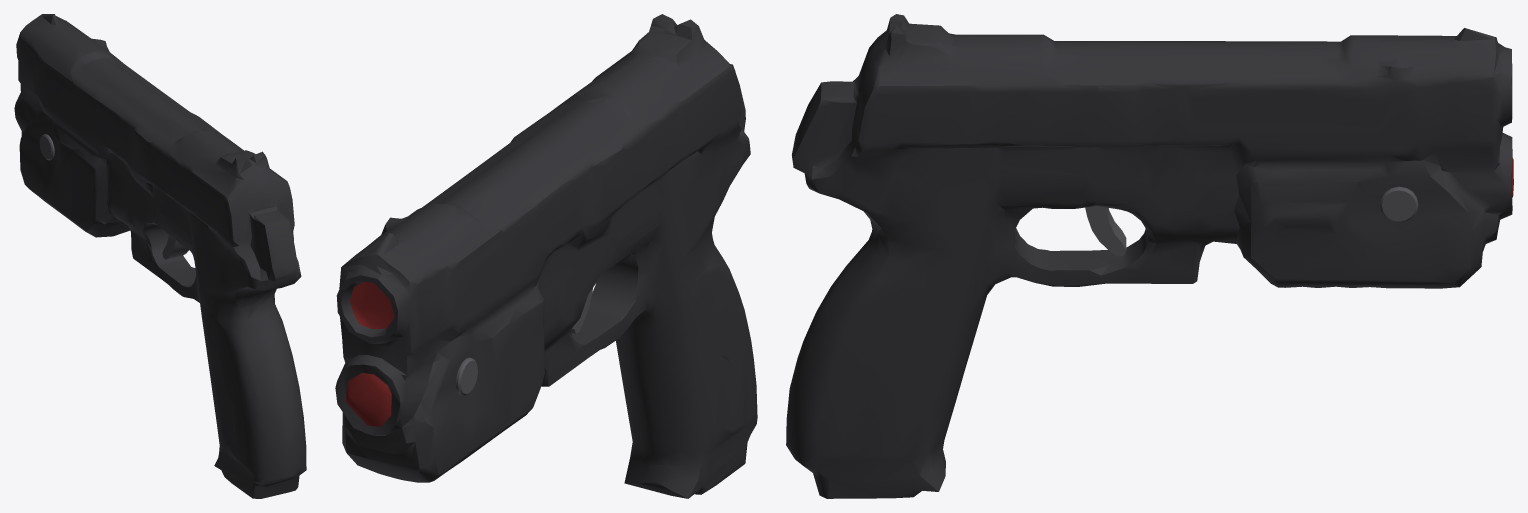
The model's file is lightgun.glb.
3 views of the same model, side by side, from view 1: azimuth 30°, elevation 25°; view 2: azimuth 150°, elevation 25°; view 3: azimuth 270°, elevation 25° (orthographic). The views are drawn at different scales.
Visible parts, largest first — view 1: body, trigger; view 2: body, button_left; view 3: body, trigger, button_right.
Part boxes in pixels (<box>): body: <box>14,14,306,498</box>; trigger: <box>162,235,188,259</box>; body: <box>335,14,757,498</box>; button_left: <box>455,357,477,395</box>; body: <box>786,14,1513,498</box>; trigger: <box>1085,206,1126,256</box>; button_right: <box>1380,186,1418,222</box>.
Size of the model in its own units: 0.0369 by 0.1693 by 0.2417.
